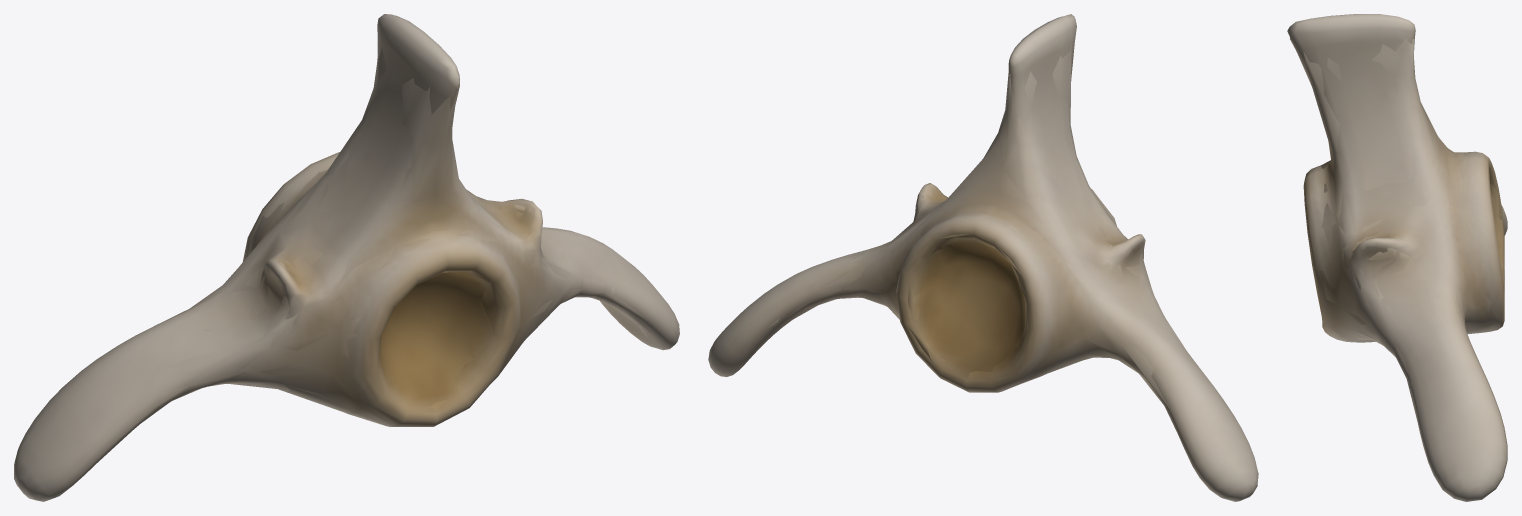
The model's file is vertebrae lumbales 2.fbx.
3 views of the same model, side by side, from view 1: azimuth 30°, elevation 25°; view 2: azimuth 150°, elevation 25°; view 3: azimuth 270°, elevation 25° (orthographic). The views are drawn at different scales.
Visible parts, largest first — view 1: vertebrae lumbales 2, vertebrae lumbales 2 low; view 2: vertebrae lumbales 2, vertebrae lumbales 2 low; view 3: vertebrae lumbales 2, vertebrae lumbales 2 low.
Boxes of the visible parts, x1=… form: vertebrae lumbales 2: x1=14, y1=14, x2=679, y2=501; vertebrae lumbales 2 low: x1=97, y1=48, x2=656, y2=462; vertebrae lumbales 2: x1=708, y1=14, x2=1258, y2=501; vertebrae lumbales 2 low: x1=753, y1=43, x2=1185, y2=429; vertebrae lumbales 2: x1=1287, y1=14, x2=1507, y2=501; vertebrae lumbales 2 low: x1=1293, y1=38, x2=1501, y2=417.
Size of the model in its own units: 8.55 by 5.52 by 3.05.
Materials: 1 (1 with a texture image).
